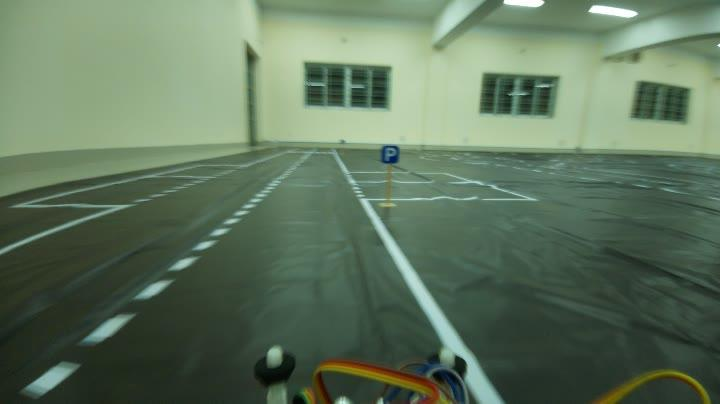parking: (379, 143, 405, 169)
